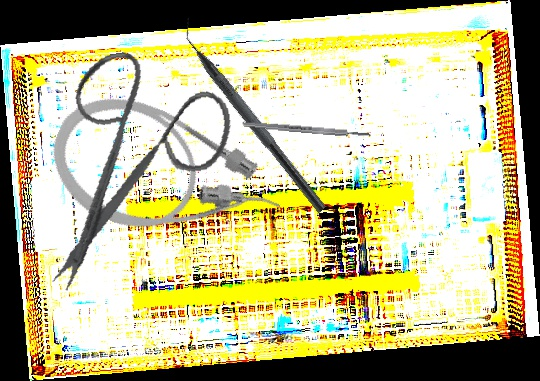Cannula: (34, 76, 297, 280)
Chopper: (170, 14, 340, 214)
Iris Scissors: (12, 35, 257, 296)
Scalpel Handle: (241, 120, 372, 139)
